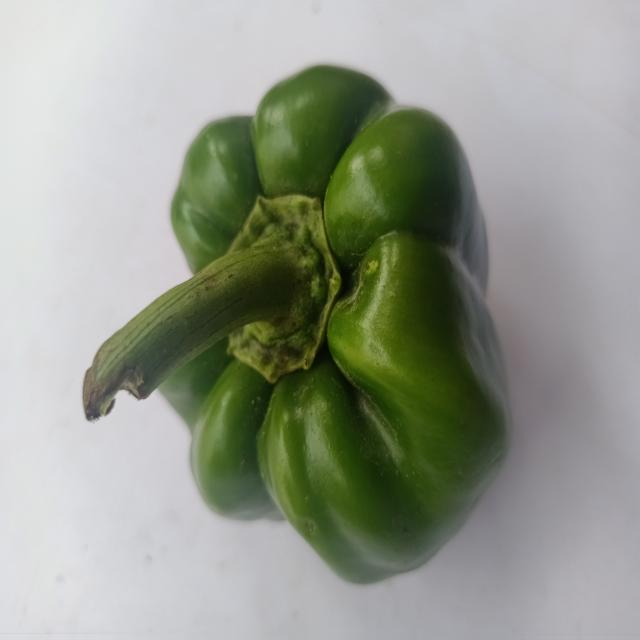Capsicum: (71, 56, 521, 605)
